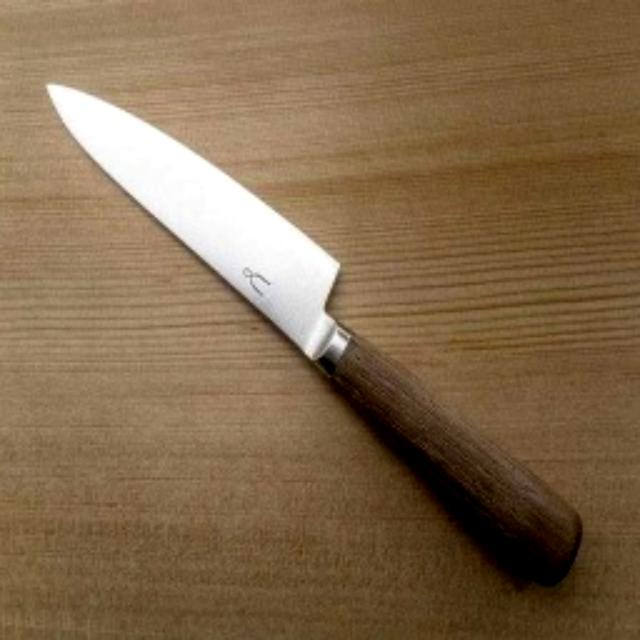pocket-knife: (48, 83, 586, 594)
